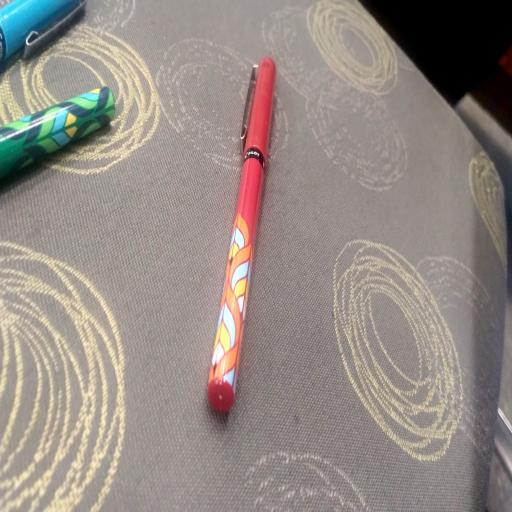pen: (208, 58, 275, 412), (0, 87, 115, 177), (0, 0, 86, 63)
